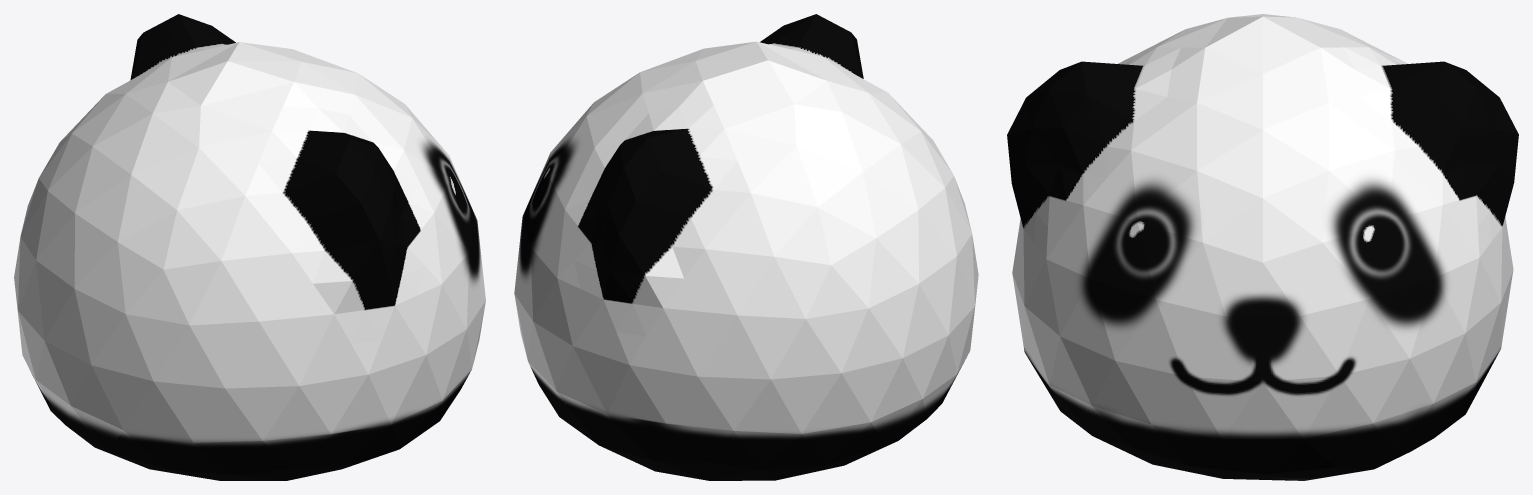
Rendered from Osito.fbx.
3 renders of one model, left to right at view 1: azimuth 30°, elevation 25°; view 2: azimuth 150°, elevation 25°; view 3: azimuth 270°, elevation 25°, orthographic. The views are drawn at different scales.
Parts seen in each view (by area): view 1: Icosphere; view 2: Icosphere; view 3: Icosphere.
Part boxes in pixels (x1=…): Icosphere: x1=14, y1=14, x2=485, y2=480; Icosphere: x1=514, y1=14, x2=978, y2=480; Icosphere: x1=1007, y1=14, x2=1518, y2=480.
Bounding box in the file's own units: 200 × 172 × 204.
1 material, 1 textured.
